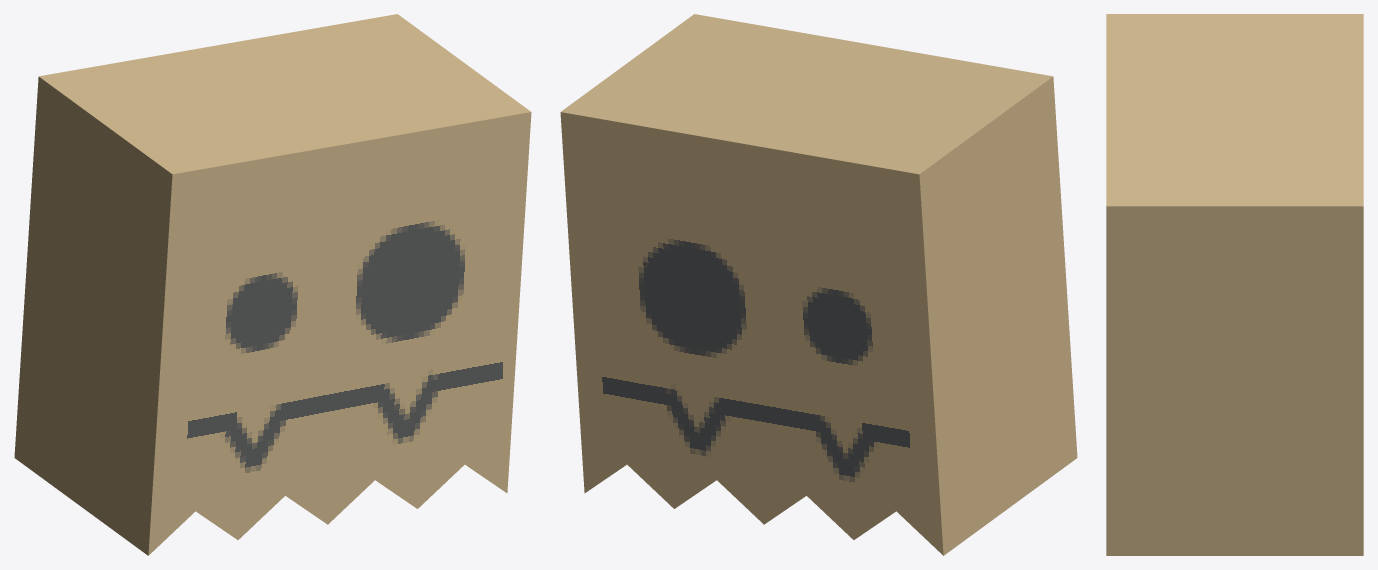
Rendered from amogus-hat-bag.fbx.
The picture shows the model from 3 angles, left to right: view 1: azimuth 30°, elevation 25°; view 2: azimuth 150°, elevation 25°; view 3: azimuth 270°, elevation 25°; orthographic projection. The views are drawn at different scales.
Visible parts, largest first — view 1: BagHat; view 2: BagHat; view 3: BagHat.
Boxes of the visible parts, x1,y1,x2,y2 form: BagHat: [14, 14, 531, 555]; BagHat: [560, 14, 1077, 555]; BagHat: [1106, 14, 1363, 555].
Bounding box in the file's own units: 95.06 × 57.56 × 95.06.
